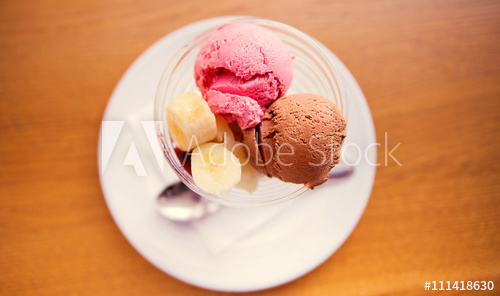ice-cream: (194, 22, 296, 126), (250, 95, 348, 189)
